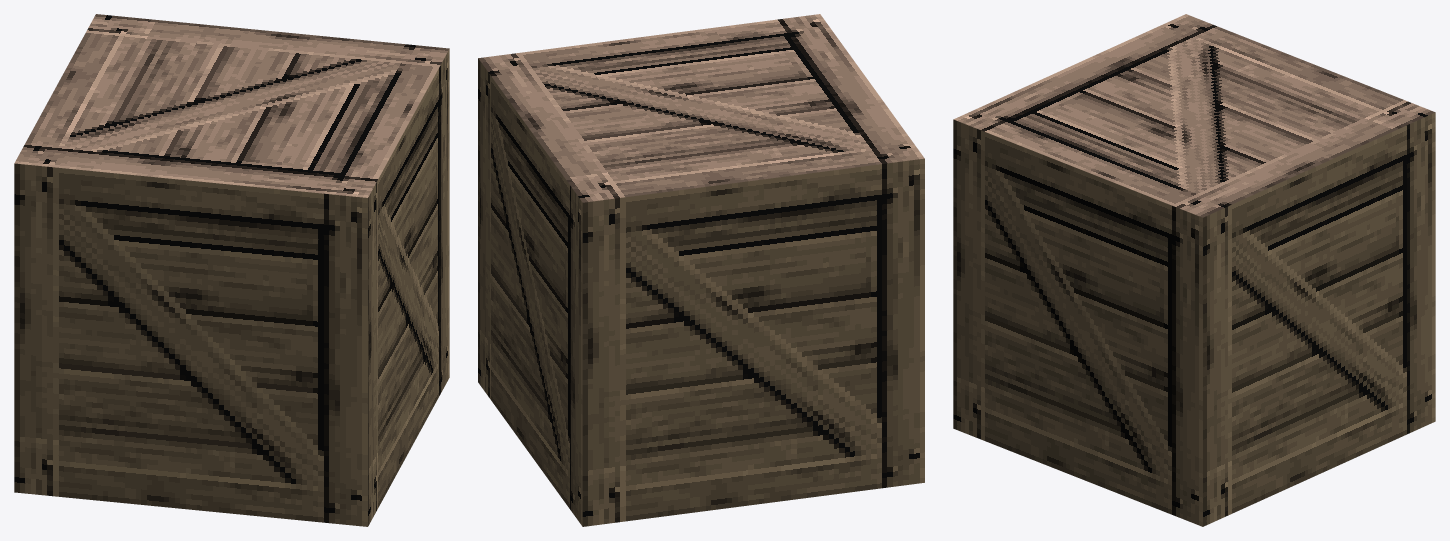
The model's file is primary_087.glb.
The picture shows the model from 3 angles, left to right: view 1: azimuth 30°, elevation 25°; view 2: azimuth 150°, elevation 25°; view 3: azimuth 270°, elevation 25°; orthographic projection. The views are drawn at different scales.
Visible parts, largest first — view 1: Object; view 2: Object; view 3: Object.
Part boxes in pixels (x1=…): Object: x1=14, y1=14, x2=449, y2=526; Object: x1=478, y1=14, x2=924, y2=526; Object: x1=953, y1=14, x2=1435, y2=526.
Size of the model in its own units: 1.34 by 0.9499 by 1.34.
Materials: 7 (7 with a texture image).
